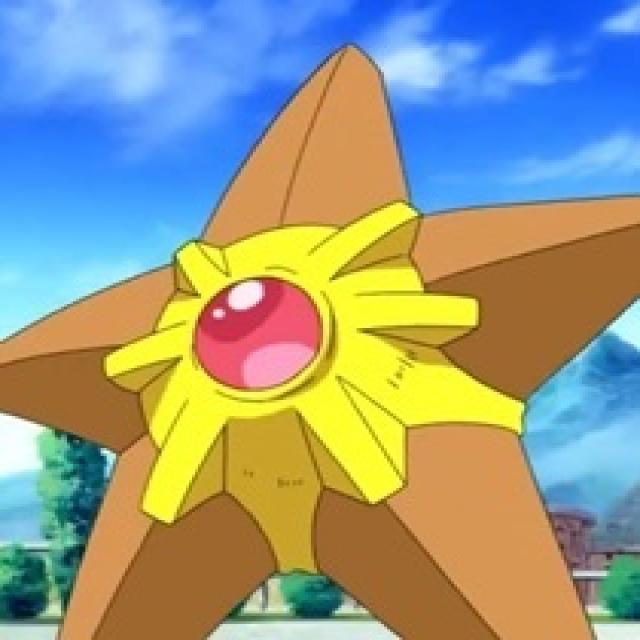Staryu: (0, 47, 640, 640)
